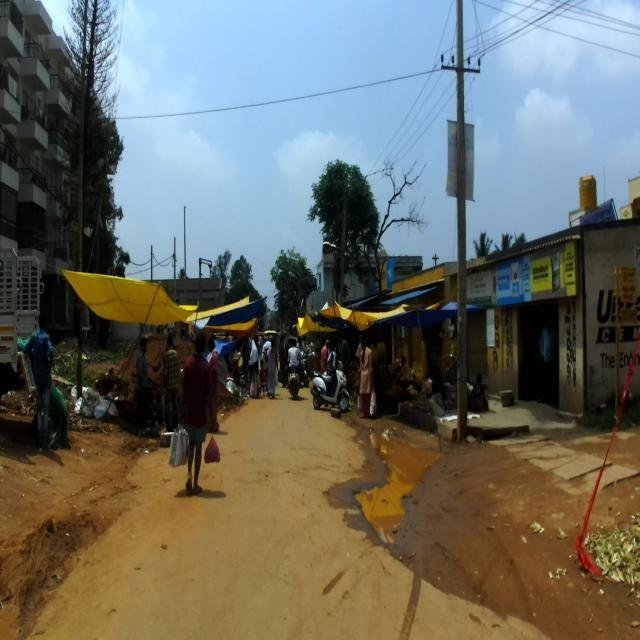Pothole: (337, 431, 640, 640), (1, 521, 133, 640), (235, 450, 308, 510)
